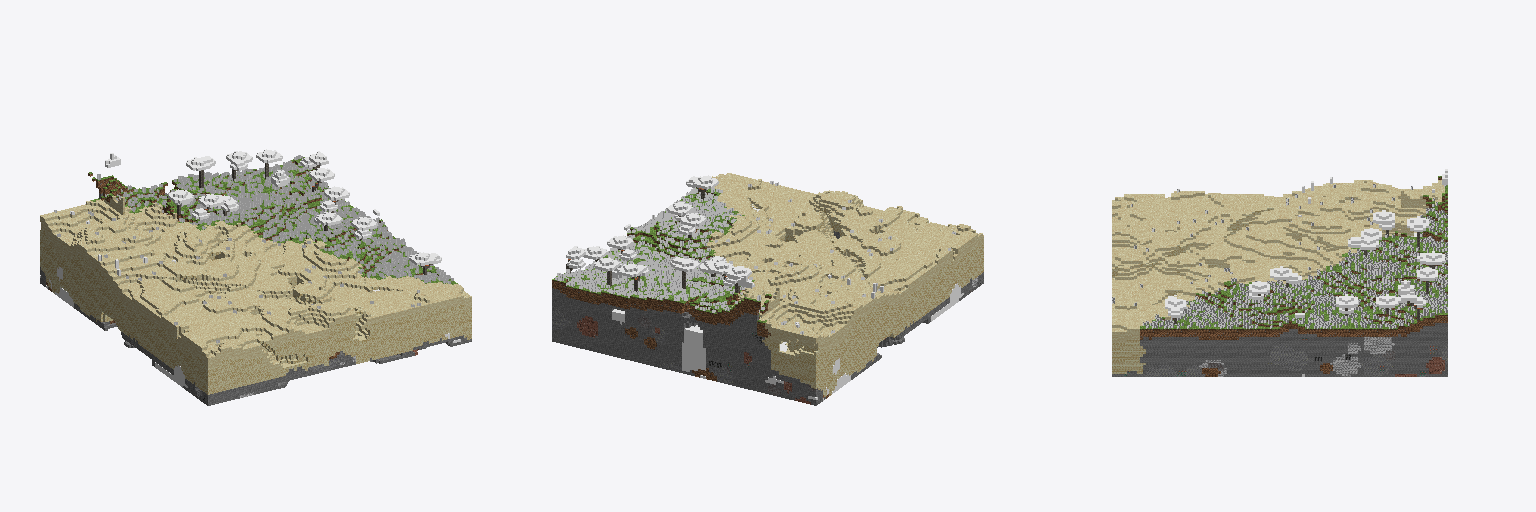
The picture shows the model from 3 angles: view 1: azimuth 30°, elevation 25°; view 2: azimuth 150°, elevation 25°; view 3: azimuth 270°, elevation 25°; orthographic projection.
Visible parts, largest first — view 1: Find_shiyt__-3194_47_-6554_to_-3097_319_-6447; view 2: Find_shiyt__-3194_47_-6554_to_-3097_319_-6447; view 3: Find_shiyt__-3194_47_-6554_to_-3097_319_-6447.
Part boxes in pixels (x1,y1,x2,y2): Find_shiyt__-3194_47_-6554_to_-3097_319_-6447: (40,149,471,405); Find_shiyt__-3194_47_-6554_to_-3097_319_-6447: (552,173,983,405); Find_shiyt__-3194_47_-6554_to_-3097_319_-6447: (1112,169,1447,376).
Size of the model in its own units: 98.13 by 40 by 108.
Materials: 25 (1 with a texture image).